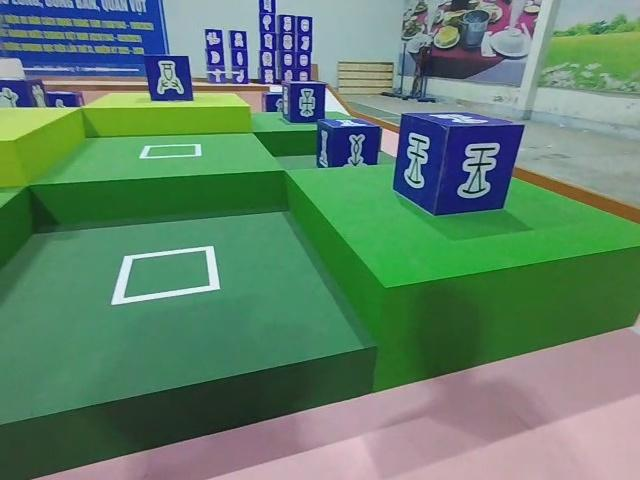R2 Real Blue: (396, 113, 526, 219), (317, 120, 383, 172), (143, 54, 192, 102), (278, 82, 325, 125), (0, 79, 44, 111)
